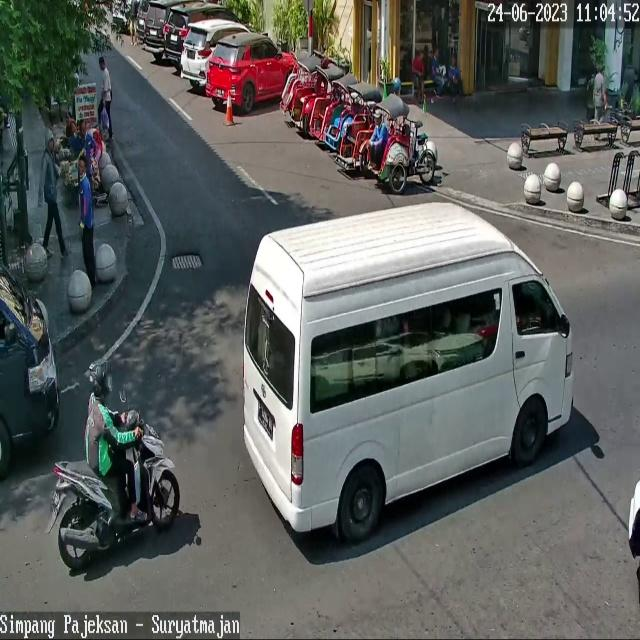bus: (47, 407, 180, 569)
car: (242, 202, 574, 544)
motorcycle: (0, 266, 59, 478), (206, 33, 300, 113), (163, 4, 246, 64), (181, 21, 252, 87), (143, 0, 169, 53)
